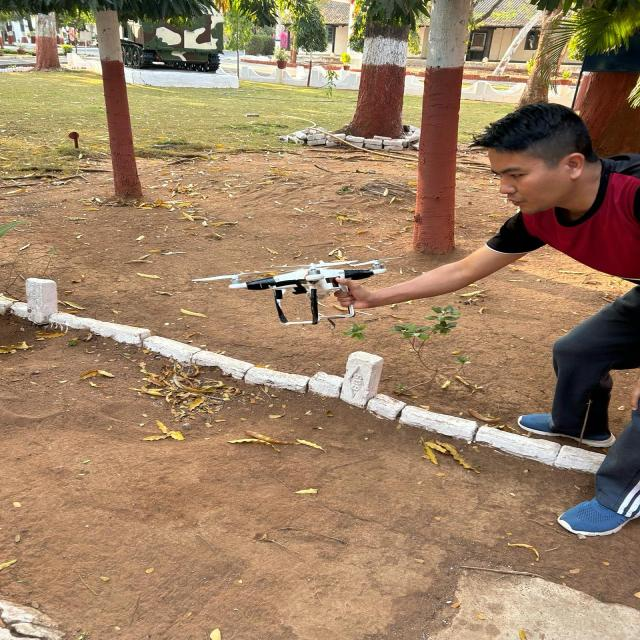drone: (193, 212, 404, 354)
